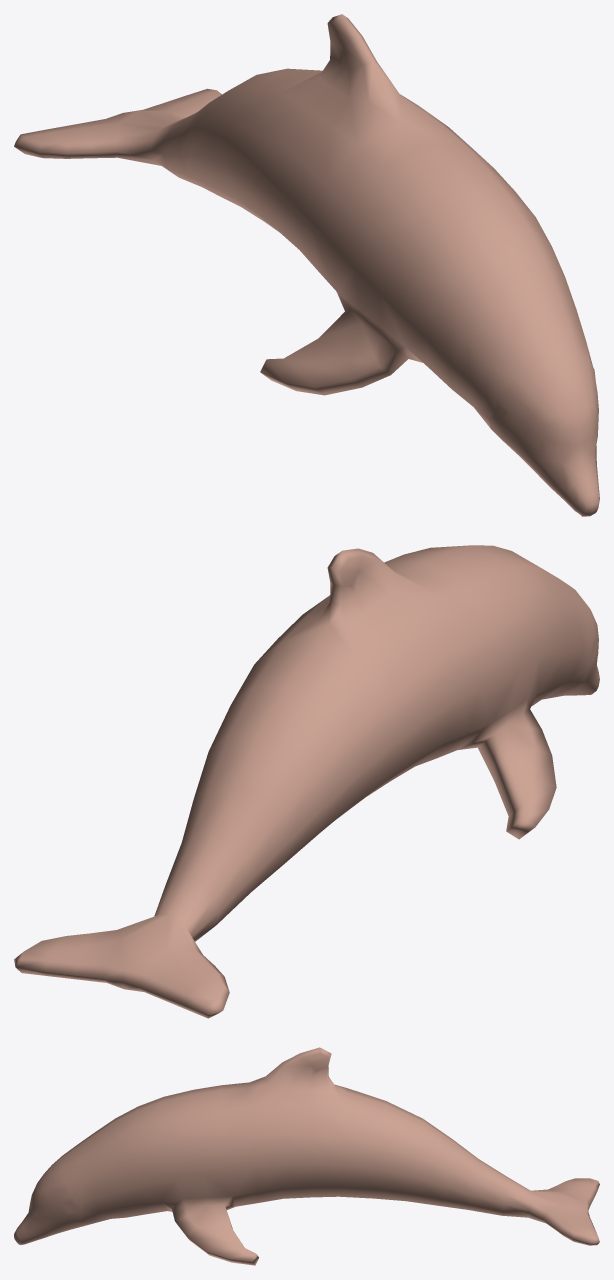
File: Dolphin.fbx
3 renders of one model, top to bottom at view 1: azimuth 30°, elevation 25°; view 2: azimuth 150°, elevation 25°; view 3: azimuth 270°, elevation 25°, orthographic. The views are drawn at different scales.
Visible parts, largest first — view 1: Dolphin:dolphin; view 2: Dolphin:dolphin; view 3: Dolphin:dolphin.
Part boxes in pixels (x1,y1,x2,y2): Dolphin:dolphin: [14, 14, 599, 516]; Dolphin:dolphin: [14, 545, 599, 1018]; Dolphin:dolphin: [14, 1047, 599, 1265].
Size of the model in its own units: 135 by 151 by 408.
